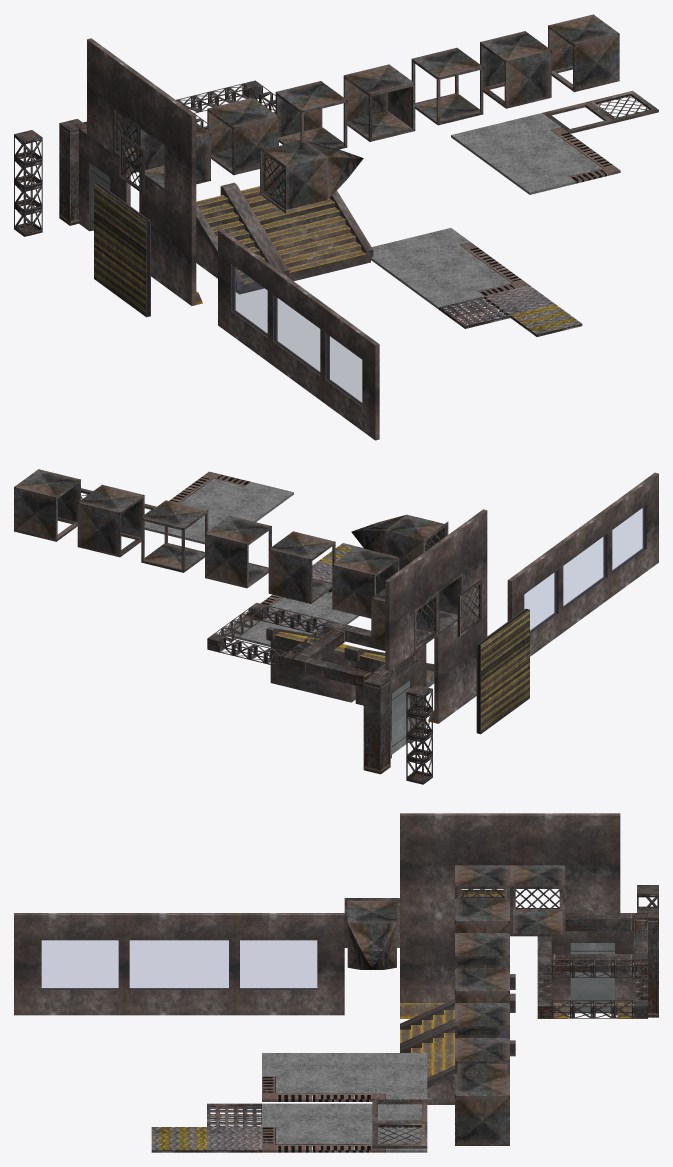
File: wall_vents_v2.glb
3 renders of one model, top to bottom at view 1: azimuth 30°, elevation 25°; view 2: azimuth 150°, elevation 25°; view 3: azimuth 270°, elevation 25°, orthographic. The views are drawn at different scales.
Visible parts, largest first — view 1: Stairs_Wide_Long_001, Wall_002, Wall_Window_003, Wall_Window_002, Wall_Window_001, Vent_DeadEnd_Fake, Wall_001, Vent_Corner, Wall_Vent_002, Vent_Down_001, Vent_Down_002, Vent_DeadEnd (+28 smaller); view 2: Wall_002, Wall_Window_003, Wall_Window_002, Wall_001, Vent_Down_001, Wall_Vent_001, Vent_Down_002, Wall_Window_001, Vent_Tri, Ceiling_Trim_002, Vent_Corner, Wall_Vent_002 (+21 smaller); view 3: Wall_Window_002, Wall_Window_001, Wall_Window_003, Wall_Vent_001, Wall_Vent_002, Wall_001, Vent_Down_002, Ceiling_Trim_002, Vent_DeadEnd_Fake, Vent_Tunnel_Closed, Ceiling_Trim_001, Doorway_001 (+27 smaller).
Part boxes in pixels (x1=…): Stairs_Wide_Long_001: x1=228, y1=182, x2=373, y2=281; Wall_002: x1=94, y1=182, x2=150, y2=317; Wall_Window_003: x1=323, y1=306, x2=379, y2=440; Wall_Window_002: x1=270, y1=267, x2=326, y2=401; Wall_Window_001: x1=218, y1=229, x2=274, y2=363; Vent_DeadEnd_Fake: x1=260, y1=140, x2=363, y2=213; Wall_001: x1=139, y1=174, x2=196, y2=305; Vent_Corner: x1=343, y1=64, x2=415, y2=141; Wall_Vent_002: x1=139, y1=76, x2=196, y2=210; Vent_Down_001: x1=480, y1=31, x2=551, y2=108; Vent_Down_002: x1=548, y1=14, x2=619, y2=92; Vent_DeadEnd: x1=207, y1=97, x2=278, y2=175; Wall_002: x1=476, y1=608, x2=529, y2=734; Wall_Window_003: x1=606, y1=472, x2=658, y2=597; Wall_Window_002: x1=557, y1=508, x2=609, y2=633; Wall_001: x1=434, y1=599, x2=487, y2=723; Vent_Down_001: x1=77, y1=484, x2=144, y2=557; Wall_Vent_001: x1=385, y1=545, x2=438, y2=670; Vent_Down_002: x1=14, y1=469, x2=80, y2=541; Wall_Window_001: x1=507, y1=544, x2=560, y2=656; Vent_Tri: x1=268, y1=531, x2=335, y2=603; Ceiling_Trim_002: x1=207, y1=602, x2=340, y2=669; Vent_Corner: x1=205, y1=516, x2=271, y2=588; Wall_Vent_002: x1=434, y1=509, x2=487, y2=616; Wall_Window_002: x1=124, y1=913, x2=234, y2=1015; Wall_Window_001: x1=234, y1=913, x2=344, y2=1015; Wall_Window_003: x1=14, y1=913, x2=124, y2=1015; Wall_Vent_001: x1=510, y1=813, x2=620, y2=915; Wall_Vent_002: x1=400, y1=813, x2=509, y2=915; Wall_001: x1=400, y1=915, x2=454, y2=1002; Vent_Down_002: x1=455, y1=1072, x2=509, y2=1145; Ceiling_Trim_002: x1=537, y1=959, x2=647, y2=1018; Vent_DeadEnd_Fake: x1=344, y1=898, x2=399, y2=969; Vent_Tunnel_Closed: x1=510, y1=865, x2=565, y2=936; Ceiling_Trim_001: x1=537, y1=913, x2=647, y2=972; Doorway_001: x1=538, y1=913, x2=646, y2=1015.
Bounding box in the file's own units: 22.4 × 8 × 23.4.
2 materials, 1 textured.
